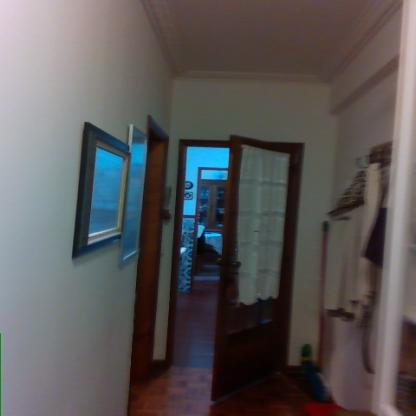semi: (164, 128, 308, 415)
